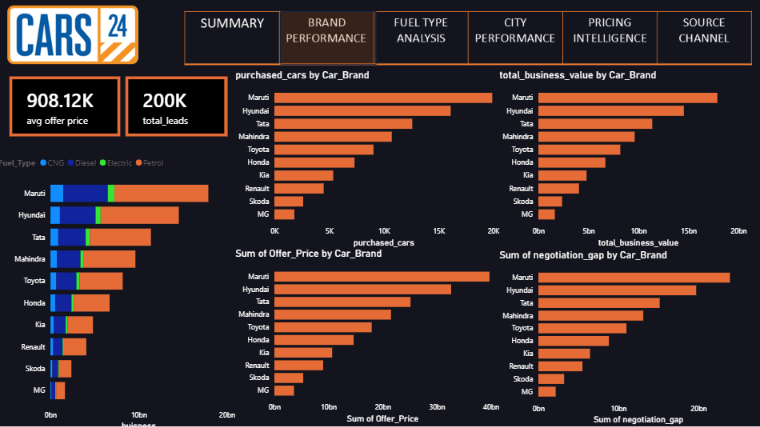

The dashboard page shown, as its layout file describes it:
{"tool":"powerbi","page":{"name":"brand performance","canvas":[1280,720],"ordinal":1},"visuals":[{"type":"barChart","fields":{"Category":["Cars24_Realistic_Dataset_FULL_c.Car_Brand"],"Y":["Cars24_Realistic_Dataset_FULL_c.total_buisness_value"]},"box":[835,116.2,412.5,298.8],"z":0},{"type":"barChart","fields":{"Category":["Cars24_Realistic_Dataset_FULL_c.Car_Brand"],"Y":["Cars24_Realistic_Dataset_FULL_c.purchased_cars"]},"box":[395,116.2,440,298.8],"z":1000},{"type":"barChart","fields":{"Category":["Cars24_Realistic_Dataset_FULL_c.Car_Brand"],"Y":["Sum(Cars24_Realistic_Dataset_FULL_c.Offer_Price)"]},"box":[395,415,440,293.8],"z":2000},{"type":"barChart","fields":{"Category":["Cars24_Realistic_Dataset_FULL_c.Car_Brand"],"Y":["Sum(Cars24_Realistic_Dataset_FULL_c.negotiation_gap)"]},"box":[835,416.2,412.5,293.8],"z":3000},{"type":"cardVisual","fields":{"Data":["Cars24_Realistic_Dataset_FULL_c.total_leads"]},"box":[211.2,130,170,100],"z":4000},{"type":"cardVisual","fields":{"Data":["Avg(Cars24_Realistic_Dataset_FULL_c.Offer_Price)"]},"box":[17.5,130,185,100],"z":5000},{"type":"barChart","fields":{"Category":["Cars24_Realistic_Dataset_FULL_c.Car_Brand"],"Y":["Cars24_Realistic_Dataset_FULL_c.total_buisness_value"],"Series":["Cars24_Realistic_Dataset_FULL_c.Fuel_Type"]},"box":[0,257.5,395,462.5],"z":6000},{"type":"actionButton","box":[624.5,22.7,158.2,92.7],"z":6001},{"type":"actionButton","box":[782.7,22.7,158.2,92.7],"z":6002},{"type":"actionButton","box":[940.9,22.7,158.2,92.7],"z":6003},{"type":"actionButton","box":[1099.1,22.7,158.2,92.7],"z":6004},{"type":"actionButton","box":[311.8,23.6,154.5,92.7],"z":6005}]}

Visuals, with their boxes in screenshot pixels (x1, y1, x2, y2), scaled from the page's 1280x720 canvas onto the 760x427 screenshot:
barChart - Cars24_Realistic_Dataset_FULL_c.Car_Brand x Cars24_Realistic_Dataset_FULL_c.total_buisness_value: bbox=(496, 69, 741, 246)
barChart - Cars24_Realistic_Dataset_FULL_c.Car_Brand x Cars24_Realistic_Dataset_FULL_c.purchased_cars: bbox=(235, 69, 496, 246)
barChart - Cars24_Realistic_Dataset_FULL_c.Car_Brand x Sum(Cars24_Realistic_Dataset_FULL_c.Offer_Price): bbox=(235, 246, 496, 420)
barChart - Cars24_Realistic_Dataset_FULL_c.Car_Brand x Sum(Cars24_Realistic_Dataset_FULL_c.negotiation_gap): bbox=(496, 247, 741, 421)
cardVisual - Cars24_Realistic_Dataset_FULL_c.total_leads: bbox=(125, 77, 226, 136)
cardVisual - Avg(Cars24_Realistic_Dataset_FULL_c.Offer_Price): bbox=(10, 77, 120, 136)
barChart - Cars24_Realistic_Dataset_FULL_c.Car_Brand x Cars24_Realistic_Dataset_FULL_c.total_buisness_value: bbox=(0, 153, 235, 426)
actionButton: bbox=(371, 13, 465, 68)
actionButton: bbox=(465, 13, 559, 68)
actionButton: bbox=(559, 13, 653, 68)
actionButton: bbox=(653, 13, 747, 68)
actionButton: bbox=(185, 14, 277, 69)
